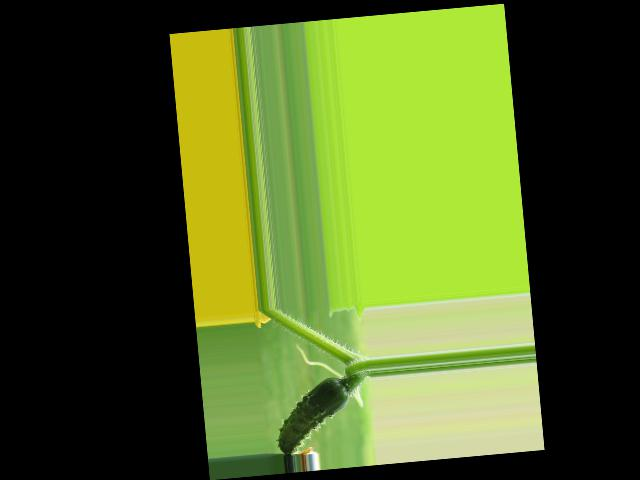cucumber: (271, 374, 353, 454)
